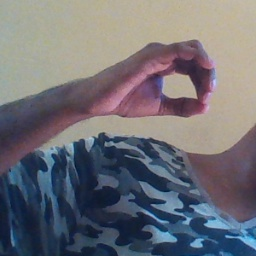O: (98, 30, 219, 122)
